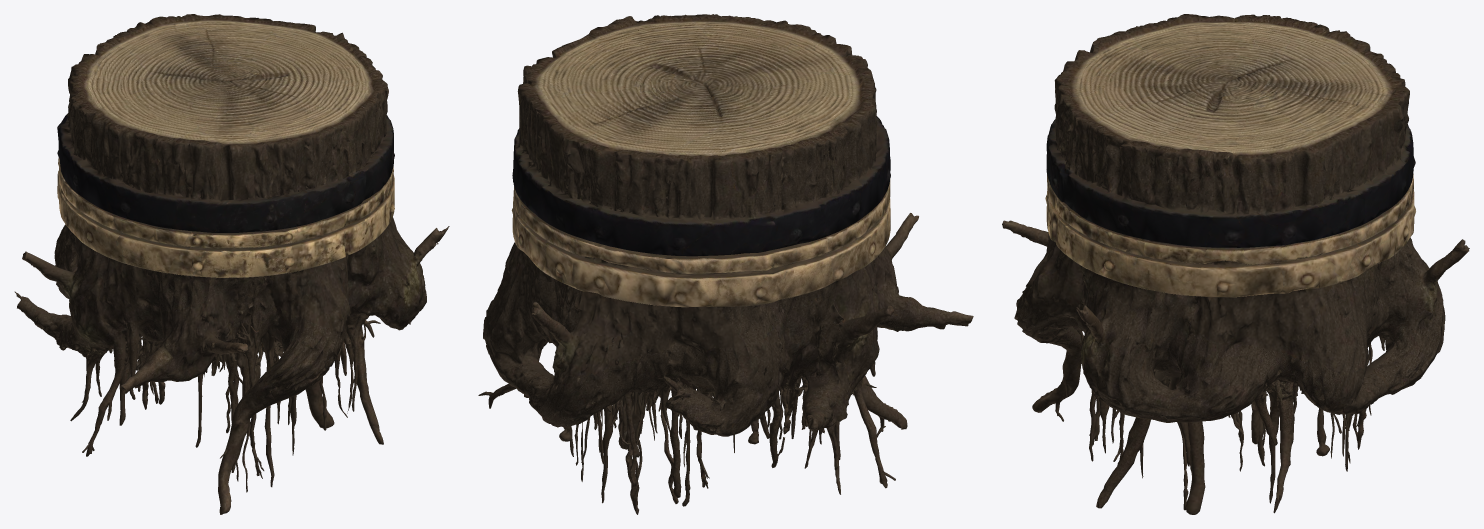
Rendered from stump.glb.
The picture shows the model from 3 angles, left to right: view 1: azimuth 30°, elevation 25°; view 2: azimuth 150°, elevation 25°; view 3: azimuth 270°, elevation 25°; orthographic projection. The views are drawn at different scales.
Bounding box in the file's own units: 1.86 × 1.75 × 1.91.
1 material, 1 textured.
